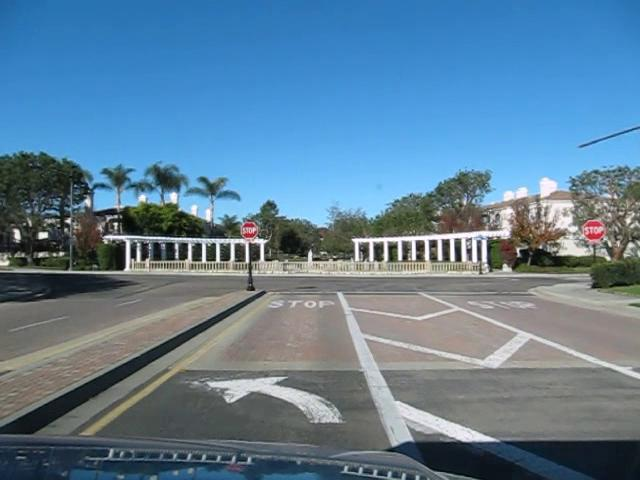stop: (581, 218, 605, 241), (239, 217, 257, 237)
